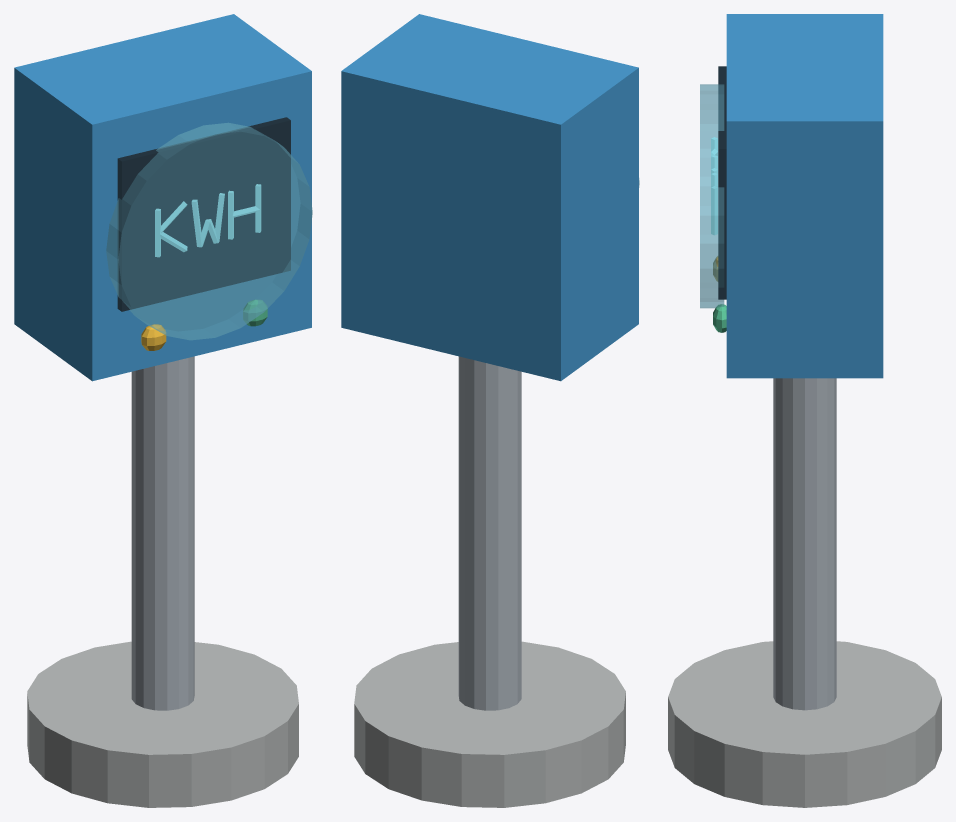
File: ENERGY-009.glb
3 views of the same model, side by side, from view 1: azimuth 30°, elevation 25°; view 2: azimuth 150°, elevation 25°; view 3: azimuth 270°, elevation 25° (orthographic).
Parts seen in each view (by area): view 1: ENERGY-009; view 2: ENERGY-009; view 3: ENERGY-009.
Part boxes in pixels (x1,y1,x2,y2): ENERGY-009: (14,14,312,807); ENERGY-009: (341,14,639,807); ENERGY-009: (668,14,941,807).
Size of the model in its own units: 0.56 by 1.54 by 0.56.
